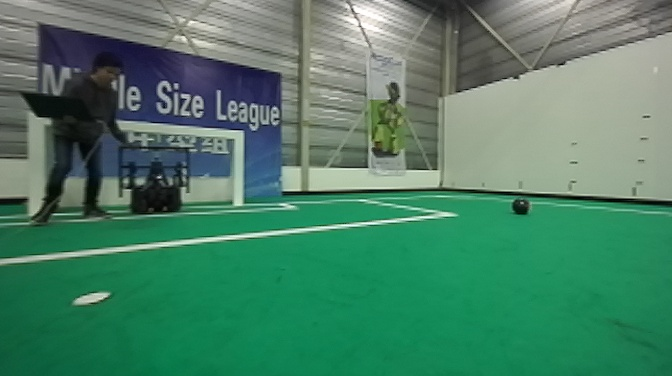ball: (510, 197, 532, 219)
goal: (25, 108, 249, 211)
goalpost: (230, 128, 247, 207)
human: (20, 51, 129, 227)
robot: (117, 144, 193, 219)
